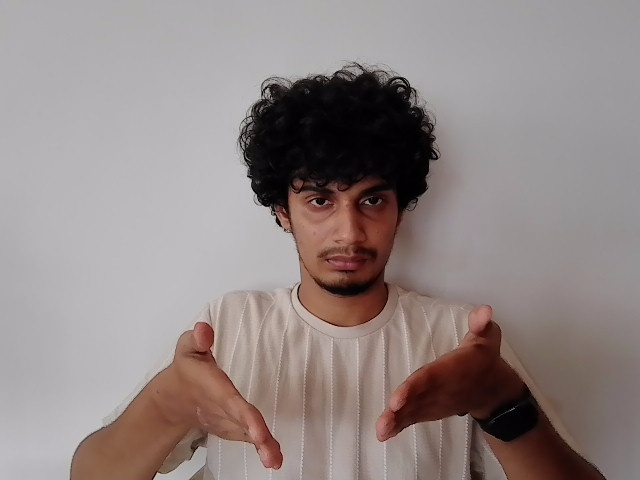here: (153, 306, 509, 465)
